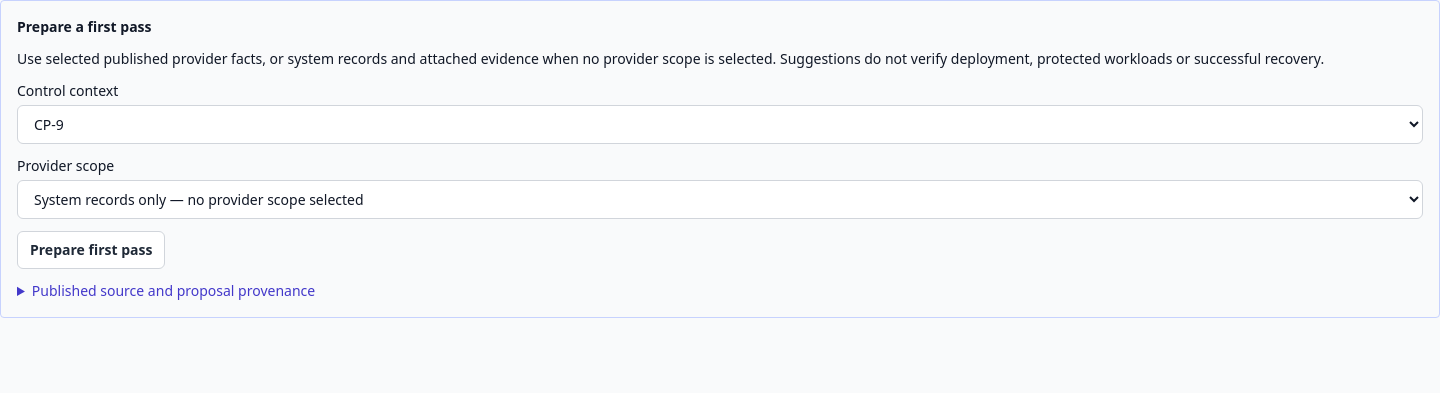
shows preparation failures without manufacturing a proposal
Expected: the dropdown labelled "Provider scope" is shown, left=17, top=180, right=1423, bottom=219
Click the button "Prepare first pass": [91, 250] box left=17, top=231, right=165, bottom=269
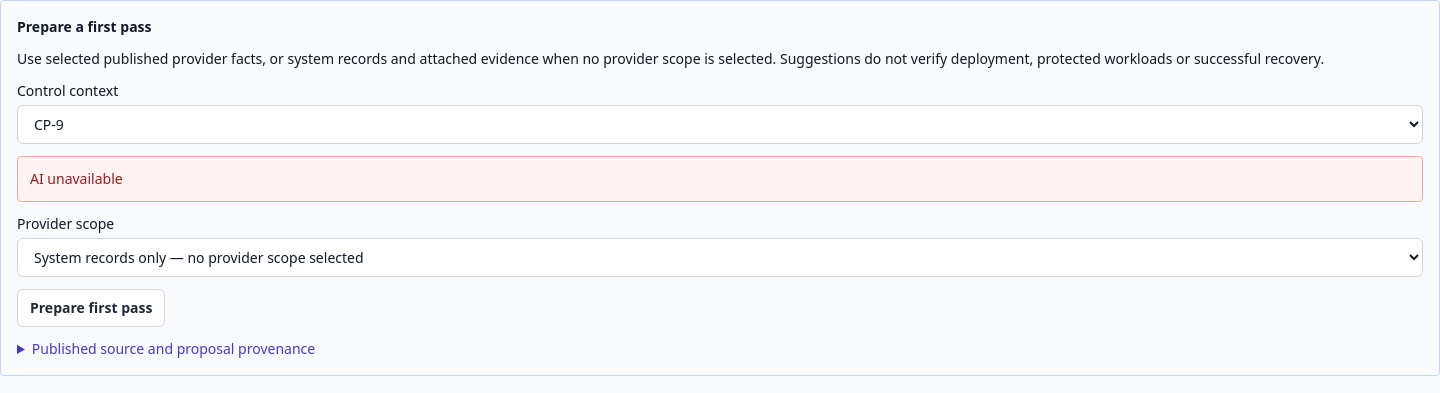
Expected: the message reads "AI unavailable", left=30, top=169, right=123, bottom=188
